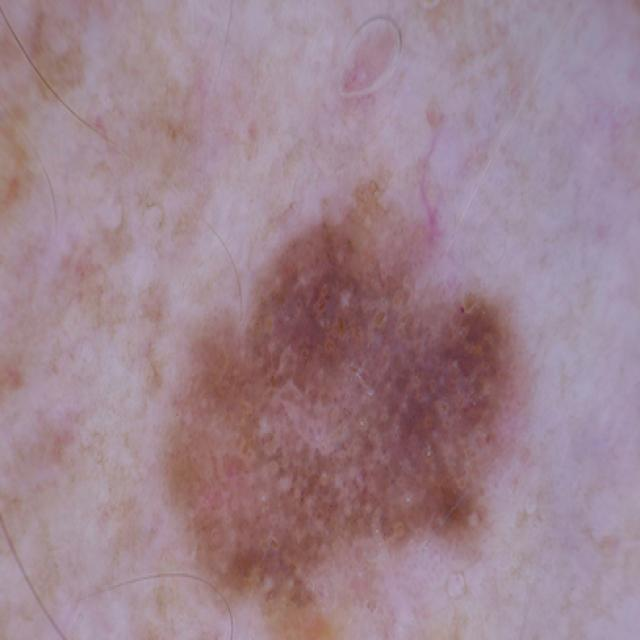Keratosis: (137, 220, 561, 640)
